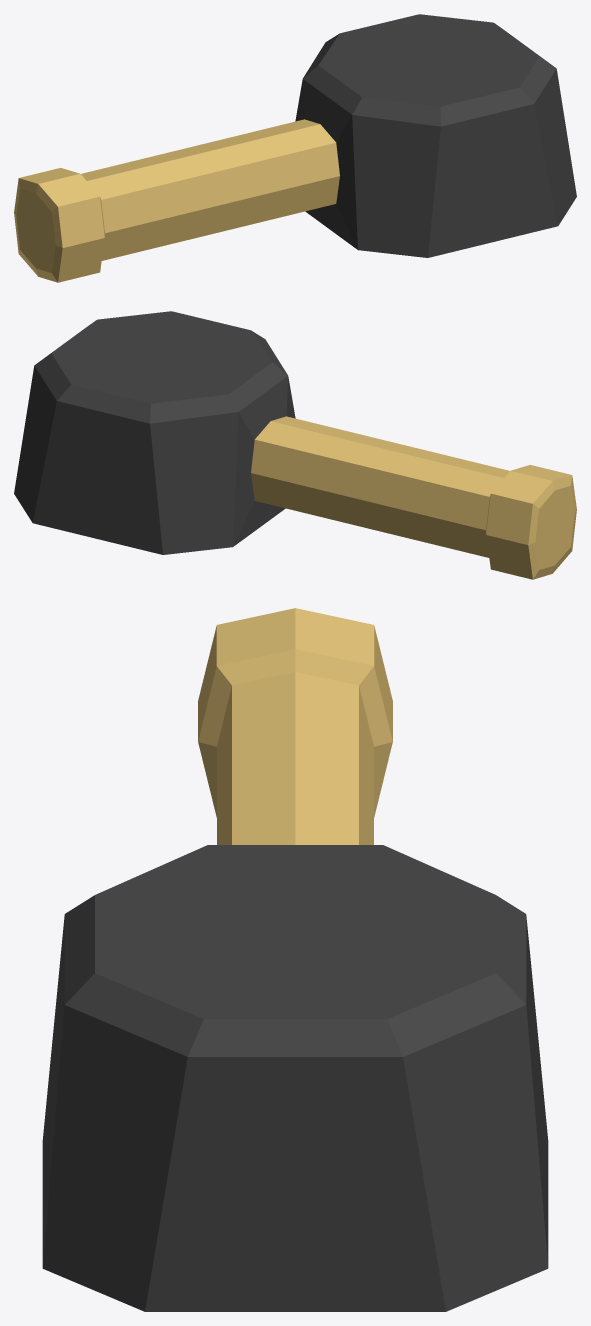
Rendered from TankTurret.glb.
3 views of the same model, one above another, from view 1: azimuth 30°, elevation 25°; view 2: azimuth 150°, elevation 25°; view 3: azimuth 270°, elevation 25° (orthographic). The views are drawn at different scales.
Visible parts, largest first — view 1: Cube; view 2: Cube; view 3: Cube.
Boxes of the visible parts, bbox=[...] form: Cube: bbox=[14, 14, 576, 282]; Cube: bbox=[14, 311, 576, 579]; Cube: bbox=[42, 608, 548, 1311].
Bounding box in the file's own units: 4.6 × 1.19 × 2.
